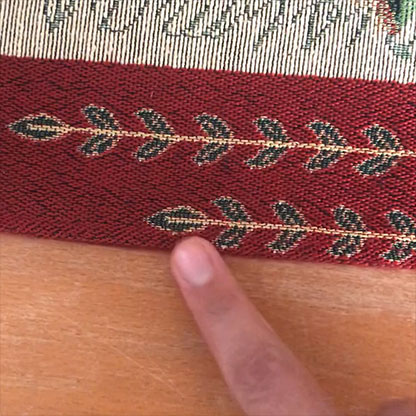fingertip: (151, 227, 248, 299)
